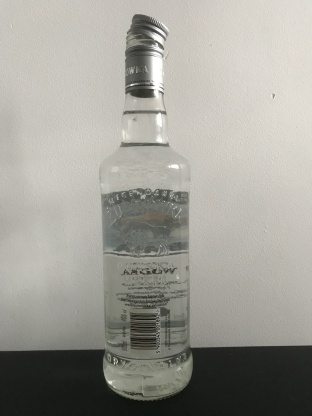nakretka: (123, 11, 170, 98)
